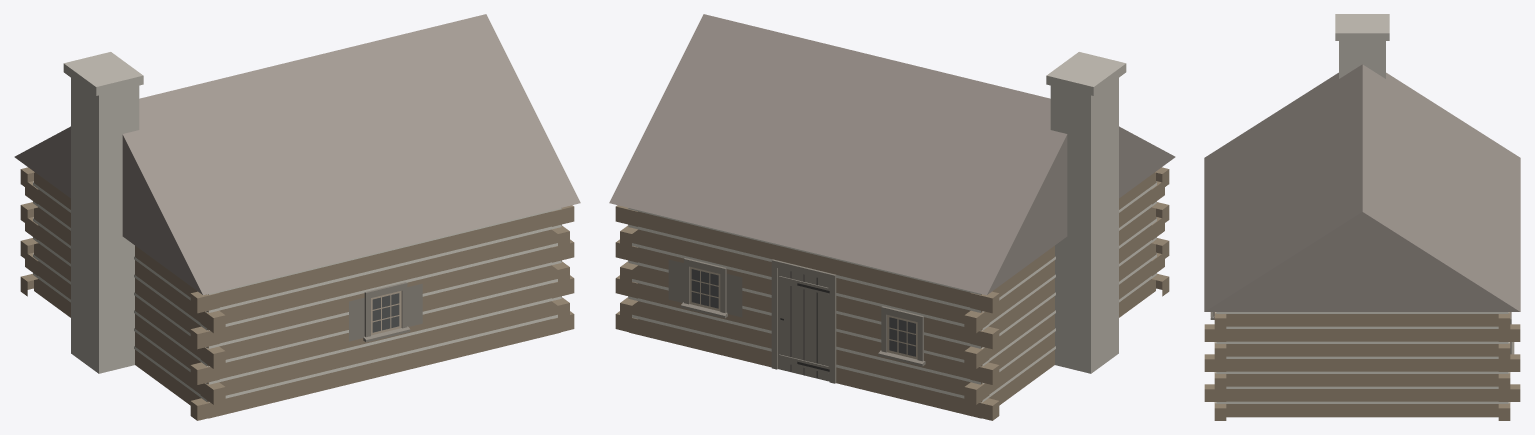
File: robert_kinzie_store__store_1830.glb
3 views of the same model, side by side, from view 1: azimuth 30°, elevation 25°; view 2: azimuth 150°, elevation 25°; view 3: azimuth 270°, elevation 25° (orthographic). The views are drawn at different scales.
Visible parts, largest first — view 1: robert_kinzie_store__store_1830; view 2: robert_kinzie_store__store_1830; view 3: robert_kinzie_store__store_1830.
Part boxes in pixels (box(x1,y1,x2,y2)): robert_kinzie_store__store_1830: box(14, 14, 580, 420); robert_kinzie_store__store_1830: box(609, 14, 1175, 420); robert_kinzie_store__store_1830: box(1204, 14, 1520, 420).
Bounding box in the file's own units: 8.07 × 5.5 × 6.5.
